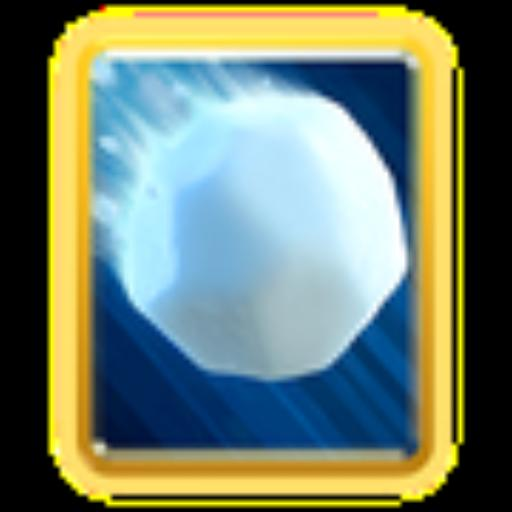snowball: (88, 62, 418, 450)
